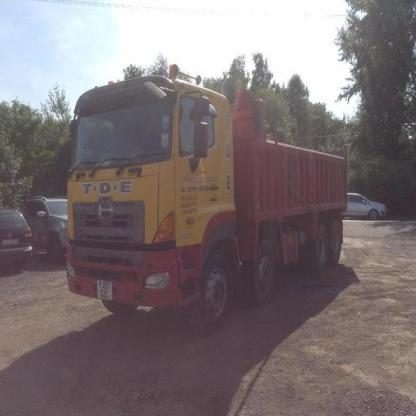dump_truck: (64, 67, 354, 326)
